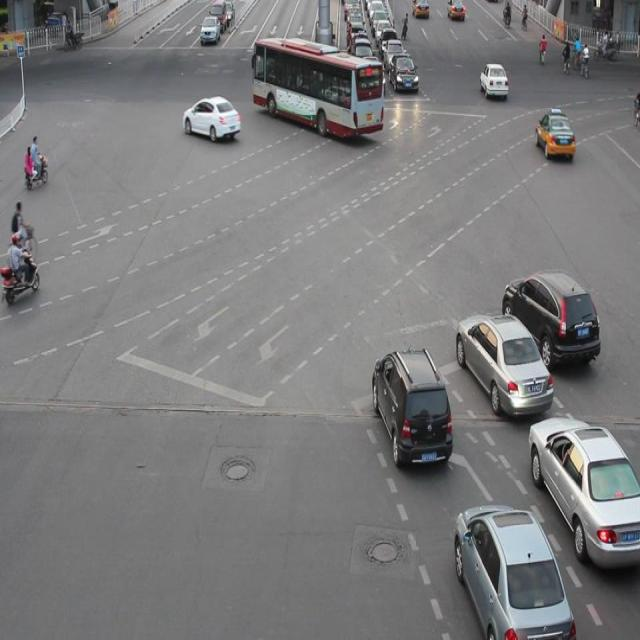car: (527, 416, 640, 568), (454, 501, 574, 640), (455, 310, 552, 418), (371, 346, 452, 466), (501, 269, 599, 366), (182, 95, 240, 141), (534, 111, 575, 159)
van: (253, 38, 382, 136)
